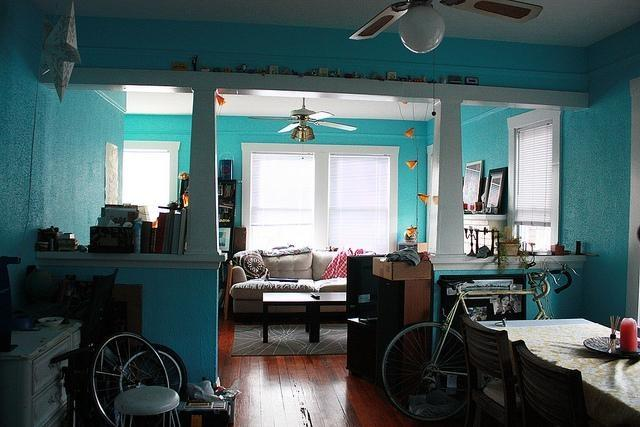bicycle: (384, 260, 574, 418), (86, 332, 186, 426)
